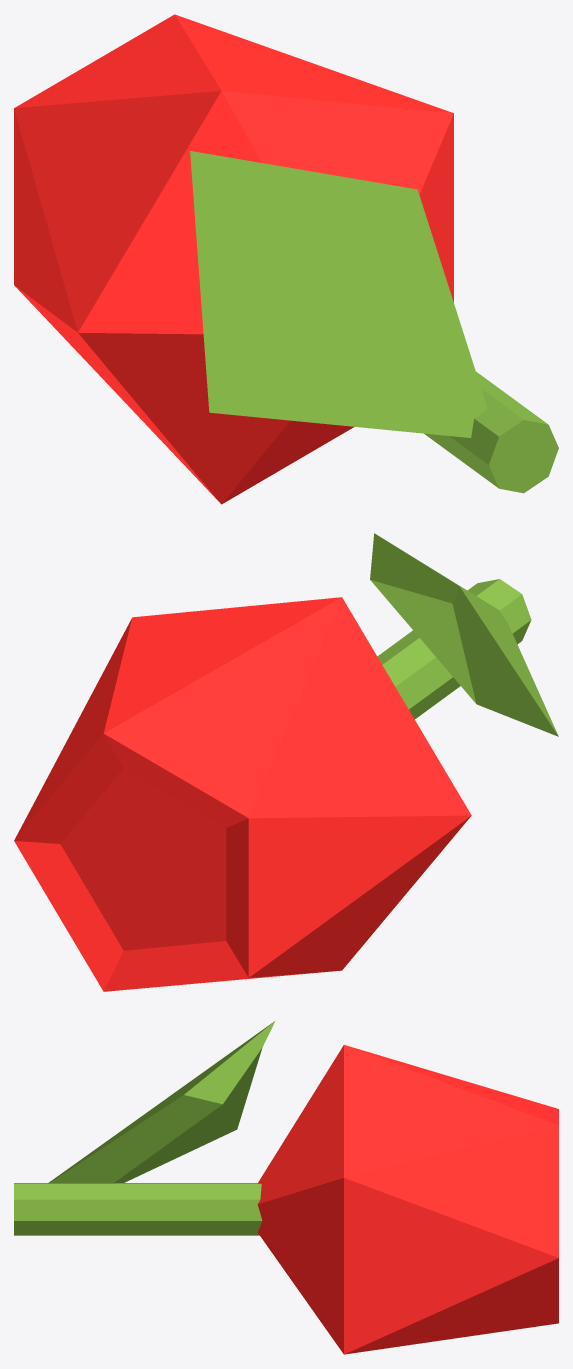
File: Flower_2.fbx
3 views of the same model, one above another, from view 1: azimuth 30°, elevation 25°; view 2: azimuth 150°, elevation 25°; view 3: azimuth 270°, elevation 25° (orthographic). The views are drawn at different scales.
Visible parts, largest first — view 1: Flower_2; view 2: Flower_2; view 3: Flower_2.
Boxes of the visible parts, <box> form: Flower_2: <box>14,14,558,504</box>; Flower_2: <box>14,533,558,991</box>; Flower_2: <box>14,1021,558,1354</box>.
Size of the model in its own units: 162 by 170 by 294.
